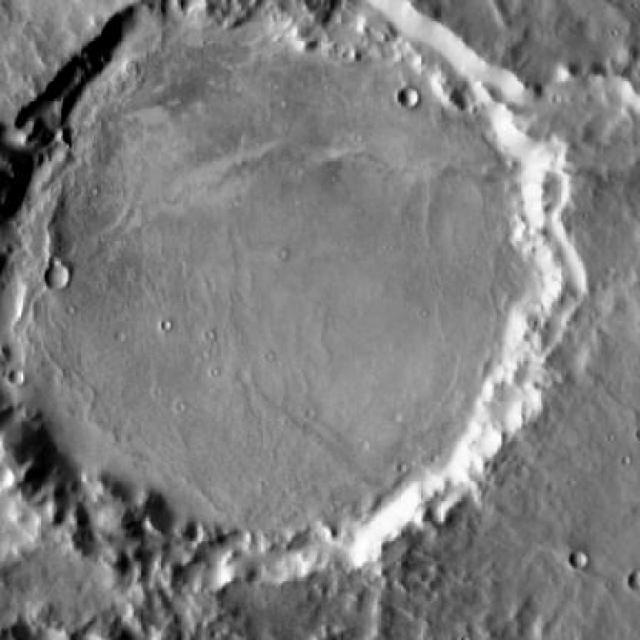crater: (0, 0, 592, 583), (46, 269, 71, 293), (396, 86, 422, 108), (568, 553, 586, 570)
